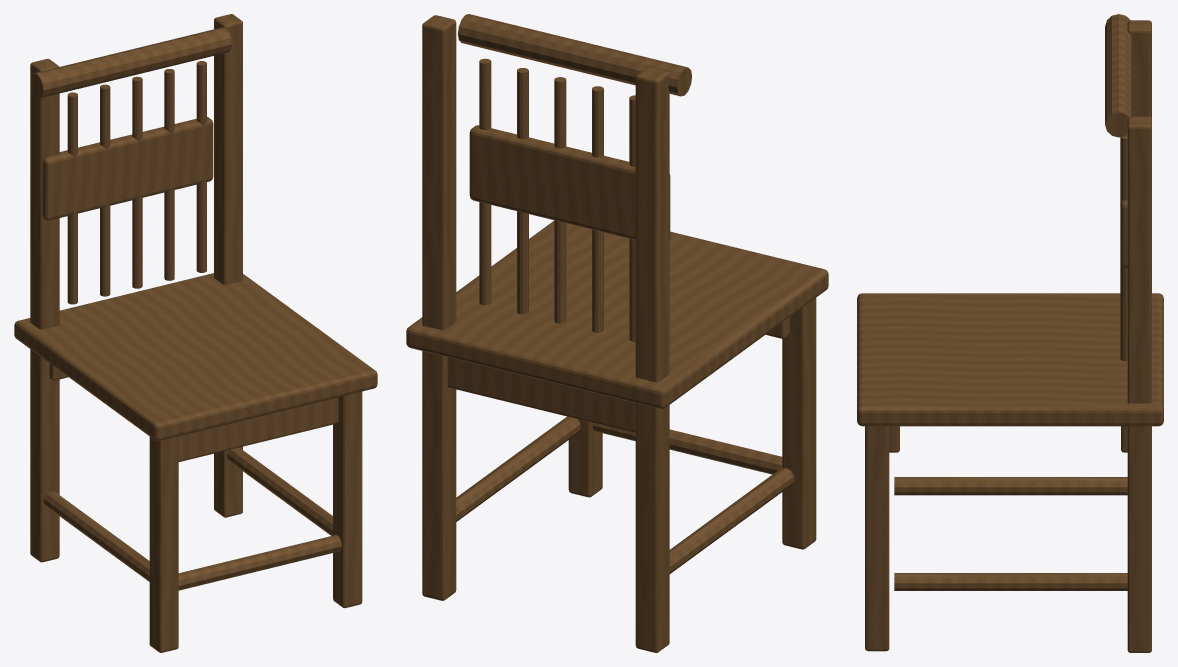
Rendered from FUR_WoodChair_Broken.fbx.
3 renders of one model, left to right at view 1: azimuth 30°, elevation 25°; view 2: azimuth 150°, elevation 25°; view 3: azimuth 270°, elevation 25°, orthographic. The views are drawn at different scales.
Visible parts, largest first — view 1: Chair_Seat, Chair_Legs_Back, Chair_Back, Chair_Legs_Front; view 2: Chair_Legs_Back, Chair_Seat, Chair_Back, Chair_Legs_Front; view 3: Chair_Seat, Chair_Legs_Back, Chair_Legs_Front, Chair_Back.
Boxes of the visible parts, x1,y1,x2,y2 form: Chair_Seat: (14,273,377,461); Chair_Legs_Back: (30,14,332,581); Chair_Back: (30,27,231,304); Chair_Legs_Front: (149,364,362,652); Chair_Legs_Back: (422,15,794,652); Chair_Seat: (406,221,828,432); Chair_Back: (458,14,691,341); Chair_Legs_Front: (568,266,816,549); Chair_Seat: (857,293,1163,452); Chair_Legs_Back: (894,20,1151,652); Chair_Legs_Front: (865,297,889,651); Chair_Back: (1105,14,1132,361).
Bounding box in the file's own units: 45 × 95.25 × 50.
